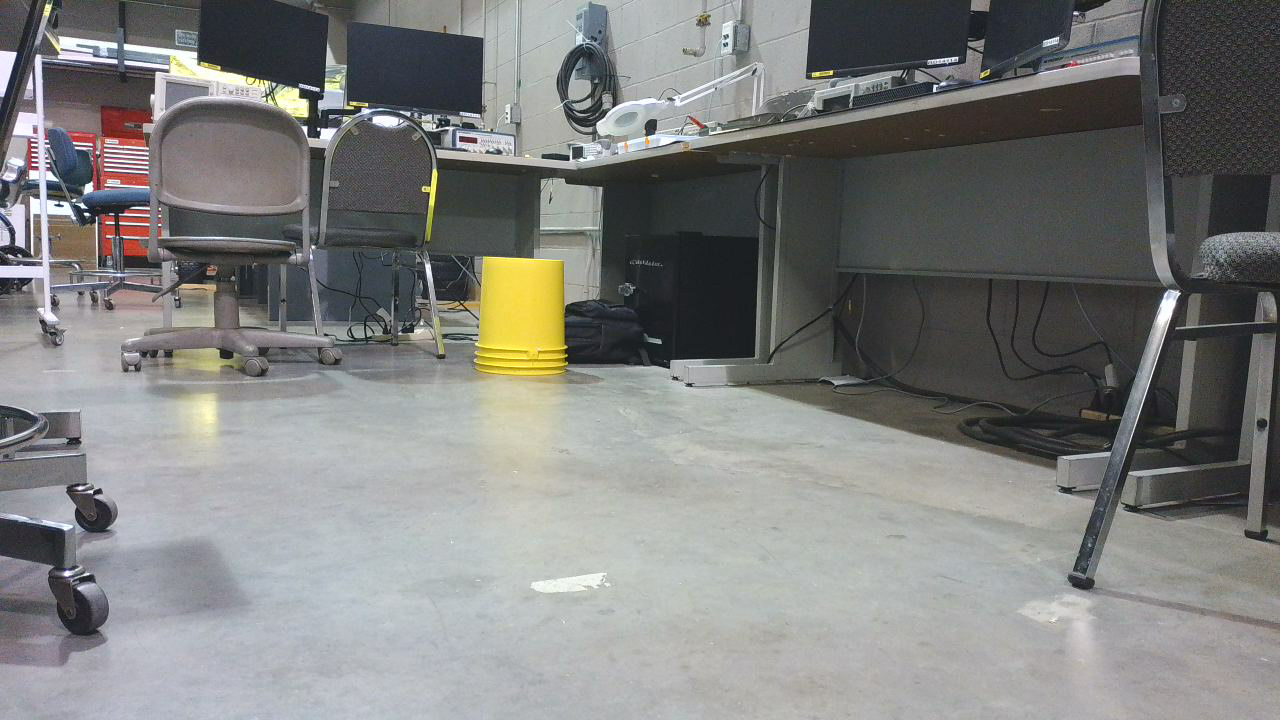yellow_bucket: (476, 262, 575, 383)
